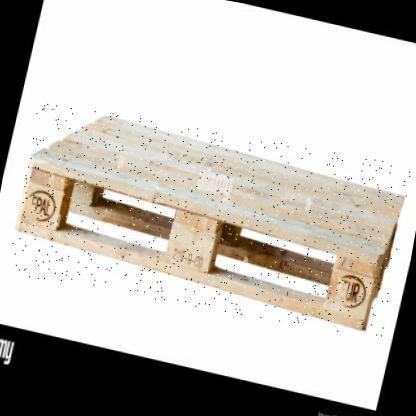pallet: (5, 108, 411, 340)
